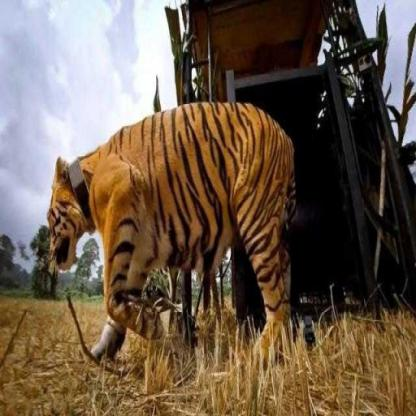Tiger: (28, 92, 346, 353)
